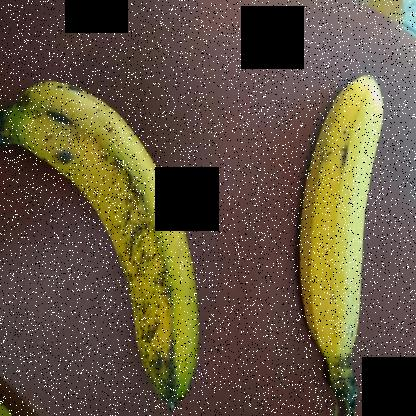freshripe: (260, 55, 400, 376)
ripe: (1, 72, 203, 415)
